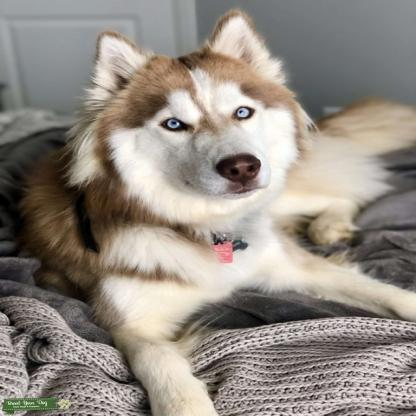husky: (7, 13, 414, 416)
